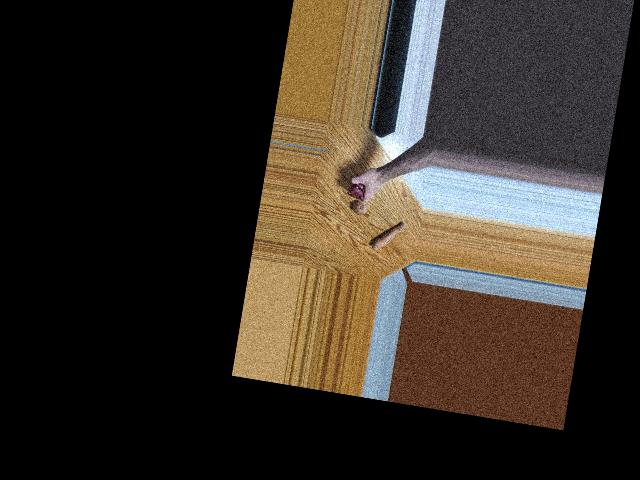onion: (350, 197, 369, 217)
